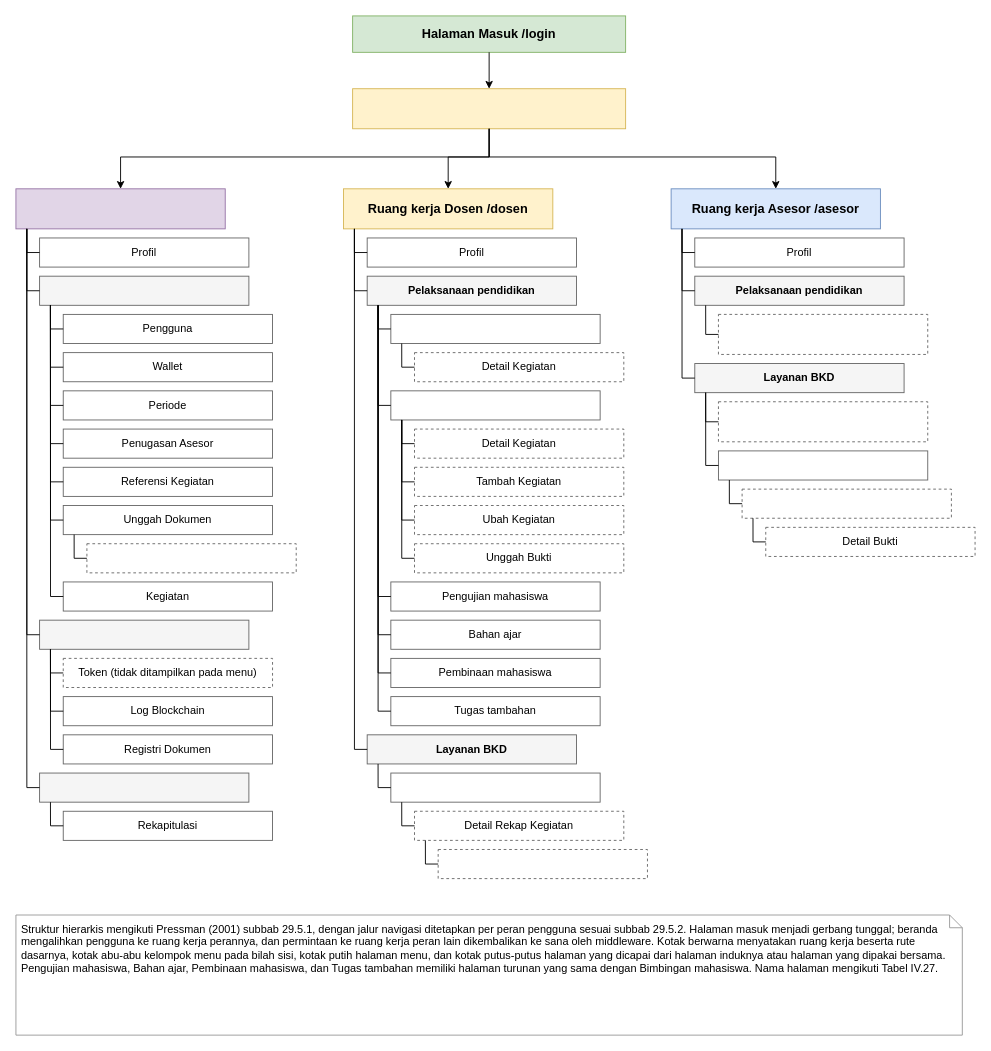
Some shapes in this 991 by 1051 pixel diagram are drawn without their labels. Each missing label, with the box of its shape:
Administrasi: (39, 275, 249, 305)
Asesor BKD: (718, 450, 928, 480)
Beranda / pengalih berdasarkan peran pada sesi: (352, 88, 626, 129)
Bimbingan mahasiswa: (390, 390, 600, 420)
Blockchain: (39, 619, 249, 649)
Detail Bukti Kegiatan: (437, 849, 647, 879)
Detail Unggahan: (86, 543, 296, 573)
Enam kategori kegiatan, halaman ruang kerja Dosen: (718, 313, 928, 354)
Laporan: (39, 772, 249, 802)
Pengajaran: (390, 313, 600, 344)
Penilaian: (741, 488, 951, 518)
Rekap Kegiatan: (390, 772, 600, 802)
Rekap Kegiatan, halaman ruang kerja Dosen: (718, 401, 928, 442)
Ruang kerja Administrator /admin: (15, 188, 225, 229)
